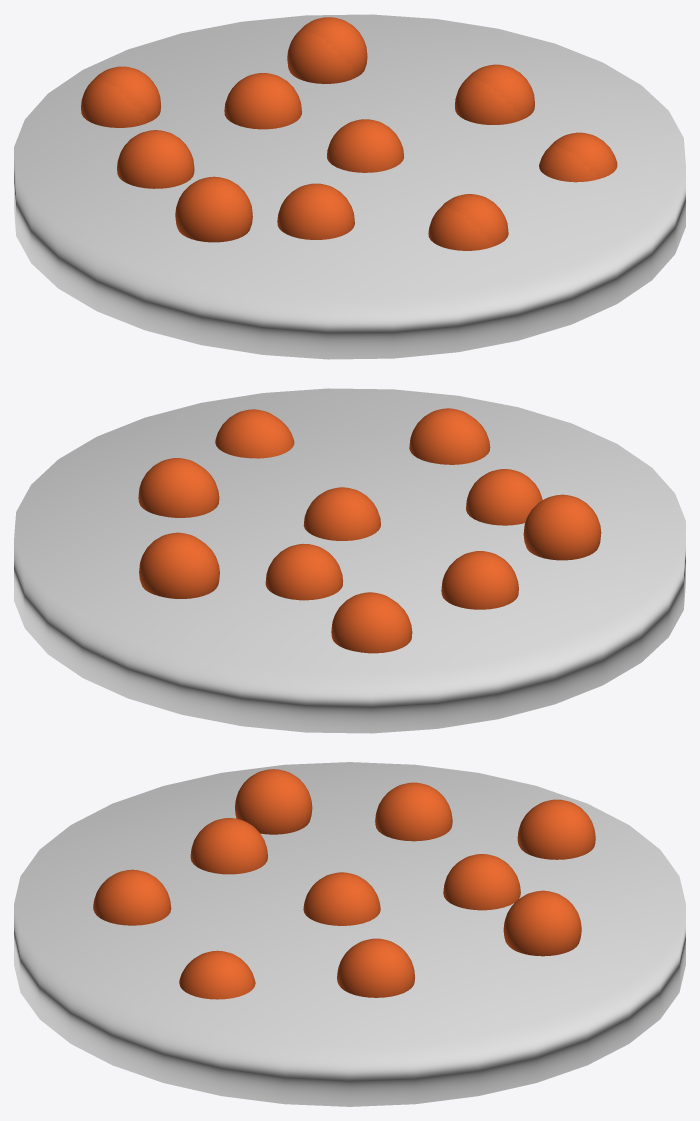
File: Cookie.glb
The picture shows the model from 3 angles, top to bottom: view 1: azimuth 30°, elevation 25°; view 2: azimuth 150°, elevation 25°; view 3: azimuth 270°, elevation 25°; orthographic projection.
Visible parts, largest first — view 1: Cylinder.002, Sphere.004, Sphere.013, Sphere.012, Sphere.011, Sphere.003, Sphere.014, Sphere.010, Sphere.015, Sphere.008, Sphere.006, Sphere.002 (+4 smaller); view 2: Cylinder.002, Sphere.004, Sphere.013, Sphere.011, Sphere.012, Sphere.003, Sphere.006, Sphere.002, Sphere.007, Sphere, Sphere.014, Sphere.001 (+4 smaller); view 3: Cylinder.002, Sphere.006, Sphere.004, Sphere.002, Sphere.007, Sphere.013, Sphere.012, Sphere.011, Sphere, Sphere.003, Sphere.001.
Boxes of the visible parts, <box> form: Cylinder.002: <box>14,14,685,359</box>; Sphere.004: <box>175,176,252,242</box>; Sphere.013: <box>117,130,194,188</box>; Sphere.012: <box>277,183,354,239</box>; Sphere.011: <box>224,73,301,129</box>; Sphere.003: <box>327,119,403,172</box>; Sphere.014: <box>287,28,356,83</box>; Sphere.010: <box>81,78,146,127</box>; Sphere.015: <box>455,76,520,124</box>; Sphere.008: <box>428,205,493,250</box>; Sphere.006: <box>301,17,367,76</box>; Sphere.002: <box>94,66,161,122</box>; Cylinder.002: <box>14,388,685,733</box>; Sphere.004: <box>523,494,601,560</box>; Sphere.013: <box>441,551,518,609</box>; Sphere.011: <box>265,543,343,600</box>; Sphere.012: <box>466,469,542,525</box>; Sphere.003: <box>303,487,380,540</box>; Sphere.006: <box>139,532,201,596</box>; Sphere.002: <box>331,592,394,651</box>; Sphere.007: <box>138,458,201,516</box>; Sphere: <box>409,408,471,463</box>; Sphere.014: <box>161,540,219,598</box>; Sphere.001: <box>215,409,277,457</box>; Cylinder.002: <box>14,762,685,1106</box>; Sphere.006: <box>504,890,581,956</box>; Sphere.004: <box>235,769,312,834</box>; Sphere.002: <box>518,799,595,859</box>; Sphere.007: <box>338,938,415,997</box>; Sphere.013: <box>375,782,452,841</box>; Sphere.012: <box>190,818,267,874</box>; Sphere.011: <box>443,854,520,910</box>; Sphere: <box>94,869,171,925</box>; Sphere.003: <box>303,872,380,925</box>; Sphere.001: <box>179,950,255,999</box>.
Bounding box in the file's own units: 1 × 0.1763 × 1.
